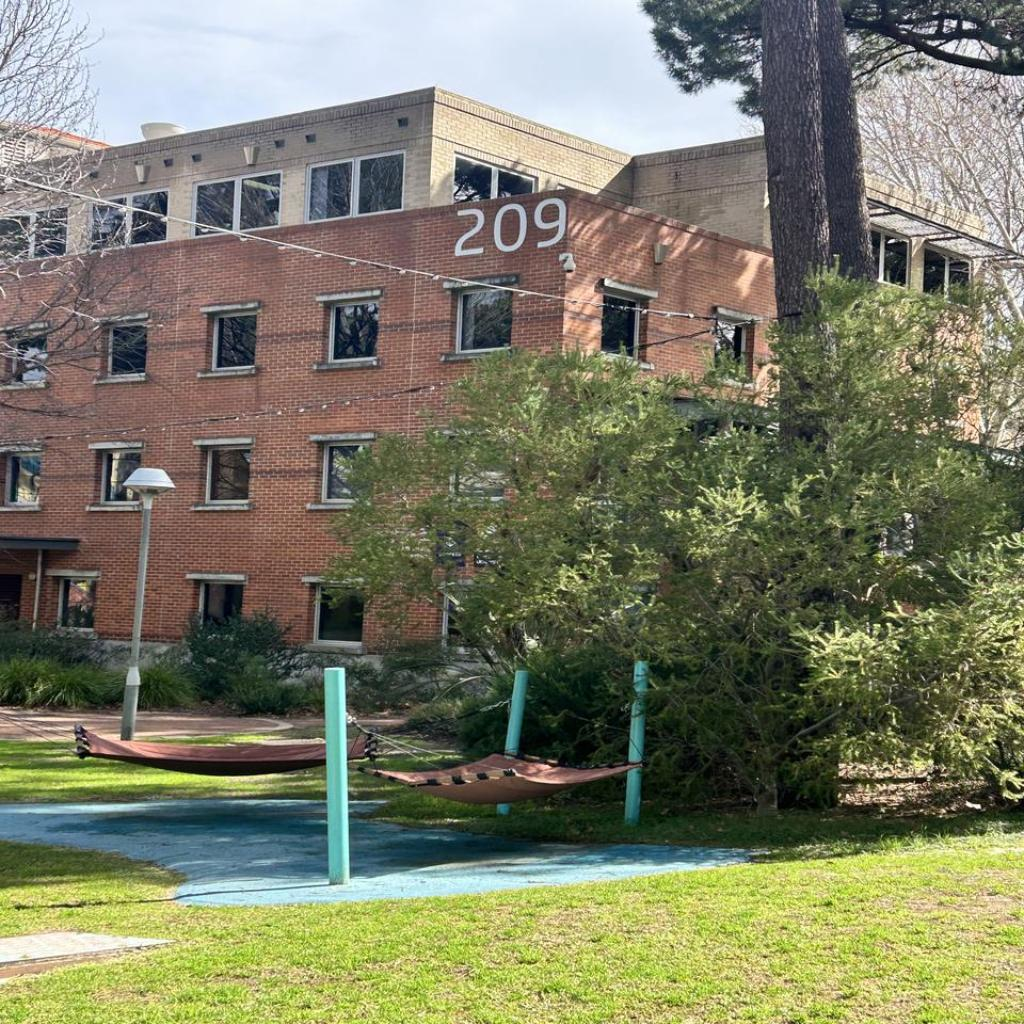BuildingCodes: (454, 196, 568, 258)
